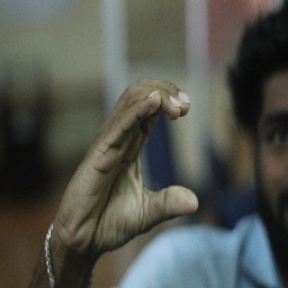C: (73, 74, 208, 223)
